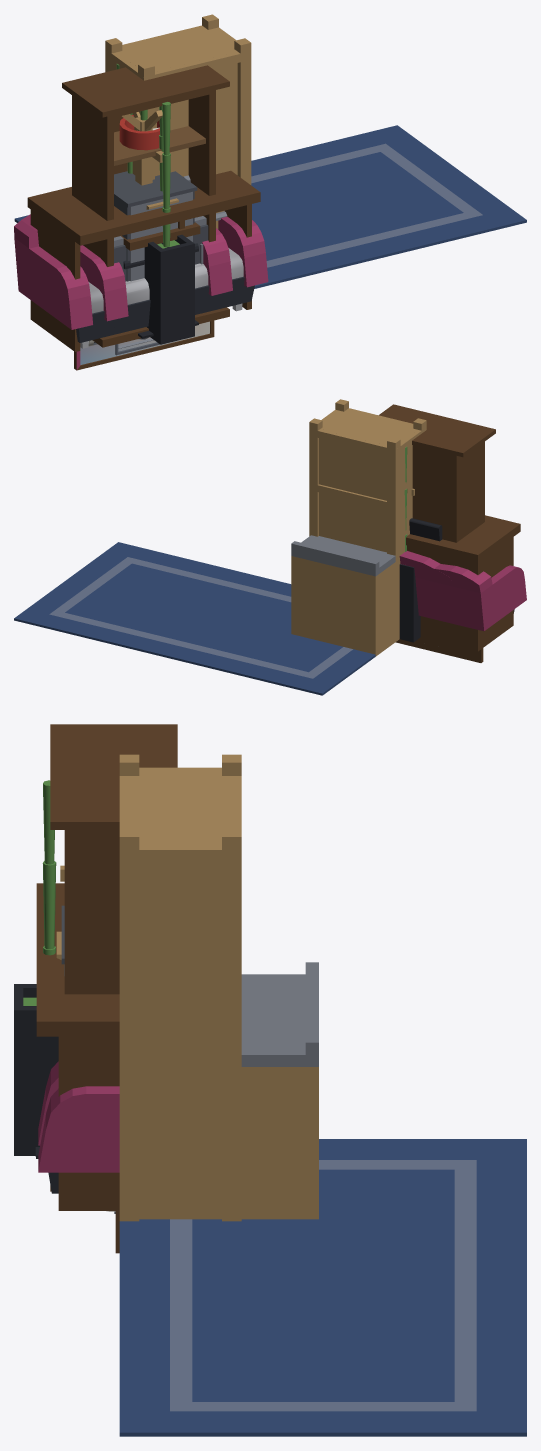
Rendered from kit-office.glb.
3 views of the same model, one above another, from view 1: azimuth 30°, elevation 25°; view 2: azimuth 150°, elevation 25°; view 3: azimuth 270°, elevation 25° (orthographic). The views are drawn at different scales.
Visible parts, largest first — view 1: of_rug, vnb_bookshelf, vnb_desk, vnb_sofa, of_shelf, of_cupboard, vnb_armchair, vnb_planter, vnb_filecab, vnb_painting, vnb_bamboo, of_coat_rack (+3 smaller); view 2: of_rug, of_counter, of_cupboard, vnb_bookshelf, vnb_desk, vnb_sofa, of_shelf, vnb_armchair, vnb_planter, vnb_planter_low, vnb_painting, vnb_chair_seat; view 3: of_rug, of_cupboard, of_counter, vnb_bookshelf, vnb_desk, of_shelf, vnb_sofa, vnb_planter, vnb_planter_low, vnb_bamboo.
Boxes of the visible parts, x1,y1,x2,y2 form: of_rug: [14, 125, 526, 288]; vnb_bookshelf: [62, 65, 229, 347]; vnb_desk: [27, 170, 260, 351]; vnb_sofa: [14, 214, 268, 348]; of_shelf: [105, 14, 251, 184]; of_cupboard: [105, 25, 240, 181]; vnb_armchair: [80, 228, 232, 334]; vnb_planter: [144, 234, 194, 344]; vnb_filecab: [114, 171, 197, 281]; vnb_painting: [74, 320, 214, 370]; vnb_bamboo: [116, 64, 170, 247]; of_coat_rack: [122, 107, 163, 185]; of_rug: [14, 542, 375, 695]; of_counter: [291, 535, 395, 656]; of_cupboard: [317, 408, 426, 641]; vnb_bookshelf: [379, 404, 495, 542]; vnb_desk: [406, 515, 520, 651]; vnb_sofa: [402, 564, 526, 631]; of_shelf: [309, 399, 426, 555]; vnb_armchair: [399, 551, 451, 620]; vnb_planter: [399, 564, 420, 642]; vnb_planter_low: [399, 589, 420, 641]; vnb_painting: [395, 637, 483, 662]; vnb_chair_seat: [409, 518, 442, 541]; of_rug: [119, 1139, 526, 1436]; of_cupboard: [119, 767, 241, 1221]; of_counter: [139, 962, 318, 1219]; vnb_bookshelf: [50, 724, 177, 1191]; vnb_desk: [36, 883, 119, 1210]; of_shelf: [119, 754, 241, 849]; vnb_sofa: [38, 1086, 119, 1193]; vnb_planter: [14, 984, 58, 1155]; vnb_planter_low: [14, 1057, 58, 1155]; vnb_bamboo: [42, 780, 56, 955].
Size of the model in its own units: 3.95 by 2.22 by 2.32.
